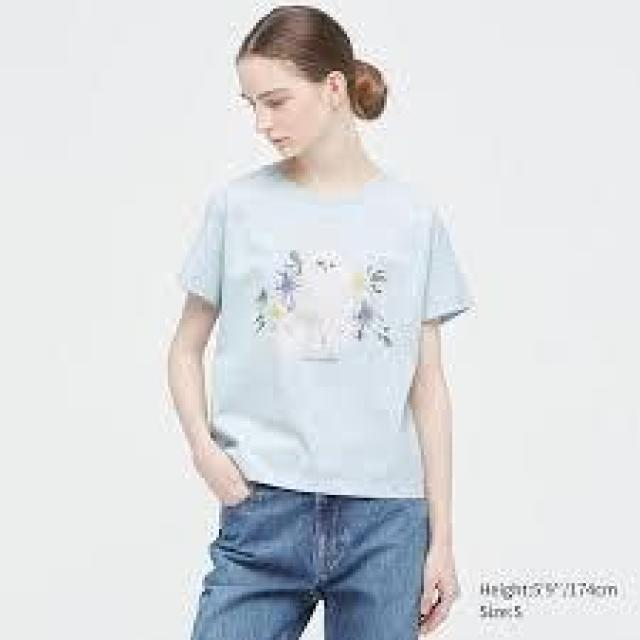Tshirt: (168, 159, 475, 506)
